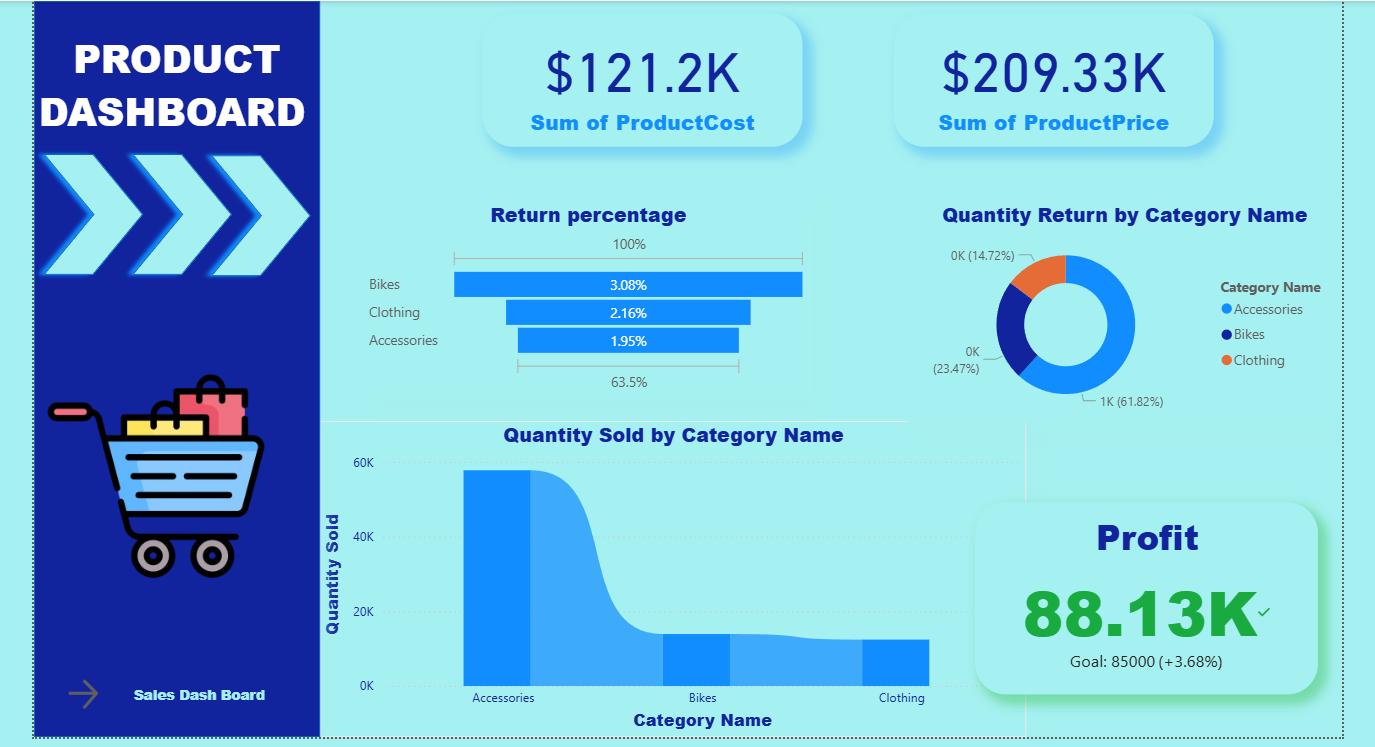

Layout of this report page (visuals, bound fields, positions):
{"tool":"powerbi","page":{"name":"Product DASH","canvas":[1280,720],"ordinal":2},"visuals":[{"type":"ribbonChart","fields":{"Category":["Categories.CategoryName"],"Y":["Dax_measure.Quantity Sold"]},"box":[279.9,411.4,691.3,308.8],"z":0},{"type":"donutChart","fields":{"Category":["Categories.CategoryName"],"Y":["Dax_measure.Quantity Return"]},"box":[853,195.4,427.1,216],"z":1000},{"type":"shape","box":[0,0,279.9,720.2],"z":2000},{"type":"shape","box":[86.9,141.2,115.8,136.3],"z":3000},{"type":"shape","box":[0,141.2,115.8,136.3],"z":4000},{"type":"shape","box":[164.1,142.4,115.8,136.3],"z":5000},{"type":"textbox","box":[0,24.1,279.9,149.6],"z":6000},{"type":"actionButton","box":[27.7,657.5,202.7,39.8],"z":7000},{"type":"card","fields":{"Values":["Sum(Products1.ProductCost)"]},"box":[439.1,12.1,312.5,130.3],"z":8000},{"type":"card","fields":{"Values":["Sum(Products1.ProductPrice)"]},"box":[840.9,12.1,312.5,130.3],"z":9000},{"type":"funnel","title":"Return percentage ","fields":{"Y":["Dax_measure.Returnpercent"],"Category":["Categories.Category Name"]},"box":[323.3,195.4,439.1,191.8],"z":10000},{"type":"kpi","title":"Profit","fields":{"Indicator":["Dax_measure.product profit"],"TrendLine":["Calendar.Date"],"Goal":["Dax_measure.product target"]},"box":[920.5,489.8,335.4,188.2],"z":11000},{"type":"image","box":[8.4,323.3,222,284.7],"z":11001}]}

Visuals, with their boxes on the page's 1280x720 design canvas (x1, y1, x2, y2). These are canvas units, not pixel positions in the 1375x747 screenshot, which may show the page scaled, cropped or inside an application window:
ribbonChart - Categories.CategoryName x Dax_measure.Quantity Sold: 280,411,971,720
donutChart - Categories.CategoryName x Dax_measure.Quantity Return: 853,195,1280,411
shape: 0,0,280,720
shape: 87,141,203,278
shape: 0,141,116,278
shape: 164,142,280,279
textbox: 0,24,280,174
actionButton: 28,658,230,697
card - Sum(Products1.ProductCost): 439,12,752,142
card - Sum(Products1.ProductPrice): 841,12,1153,142
"Return percentage " funnel: 323,195,762,387
"Profit" kpi: 920,490,1256,678
image: 8,323,230,608
